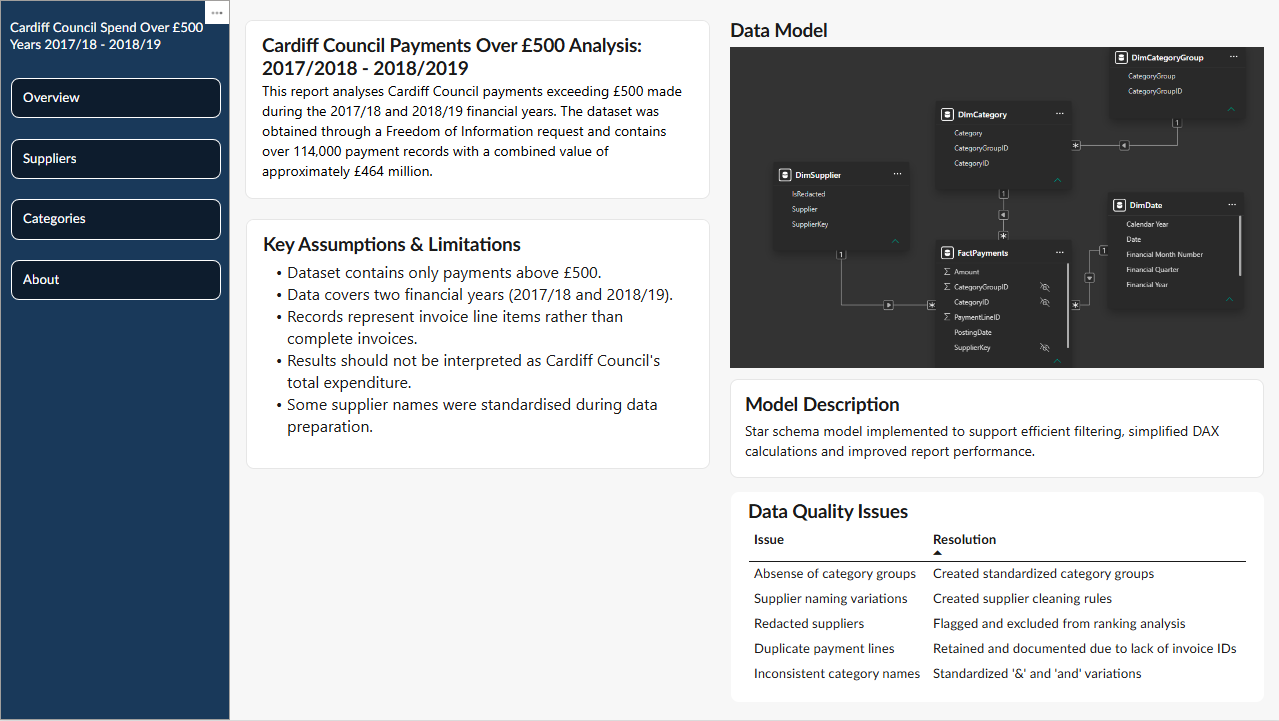

The page's visual inventory and layout, read from the dashboard file:
{"tool":"powerbi","page":{"name":"About the Dataset","canvas":[1280,720],"ordinal":3},"visuals":[{"type":"shape","title":"Shape_Menu background","box":[0,0,230,720],"z":0,"group":"g1"},{"type":"textbox","title":"Cardiff Council Payments Over £500 Analysis: 2017/2018 - 2018/2019","box":[245.5,20.2,464.6,178.8],"z":0},{"type":"image","title":"Data Model","box":[730.3,20.2,533.3,347.5],"z":1000},{"type":"actionButton","title":"Btn_Overview","box":[10.6,77.9,210,40.4],"z":1000,"group":"g1"},{"type":"actionButton","title":"Btn_Suppliers","box":[10.6,138.6,210,40.4],"z":2000,"group":"g1"},{"type":"textbox","title":"Model Description","box":[730.3,378.8,533.3,99],"z":2000},{"type":"actionButton","title":"Btn_Categories","box":[10.6,199.3,210,40.4],"z":3000,"group":"g1"},{"type":"tableEx","title":"Data Quality Issues","fields":{"Values":["DataQualityIssues.Issue","DataQualityIssues.Resolution"]},"box":[731.3,491.9,532.3,210.1],"z":3000},{"type":"textbox","title":"Key Assumptions & Limitations","box":[246.5,219.2,463.6,249.5],"z":4000},{"type":"actionButton","title":"Btn_About","box":[10.6,260,210,40.4],"z":4000,"group":"g1"},{"type":"group","id":"g1","title":"Navigation","box":[0,0,230,720],"z":5000},{"type":"textbox","title":"Report_Title","box":[10.1,20,210.1,40.4],"z":5000,"group":"g1"}]}

Visuals, with their boxes on the page's 1280x720 design canvas (x1, y1, x2, y2). These are canvas units, not pixel positions in the 1279x721 screenshot, which may show the page scaled, cropped or inside an application window:
"Shape_Menu background" shape: (0, 0, 230, 720)
"Cardiff Council Payments Over £500 Analysis: 2017/2018 - 2018/2019" textbox: (246, 20, 710, 199)
"Data Model" image: (730, 20, 1264, 368)
"Btn_Overview" actionButton: (11, 78, 221, 118)
"Btn_Suppliers" actionButton: (11, 139, 221, 179)
"Model Description" textbox: (730, 379, 1264, 478)
"Btn_Categories" actionButton: (11, 199, 221, 240)
"Data Quality Issues" tableEx: (731, 492, 1264, 702)
"Key Assumptions & Limitations" textbox: (246, 219, 710, 469)
"Btn_About" actionButton: (11, 260, 221, 300)
"Navigation" group: (0, 0, 230, 720)
"Report_Title" textbox: (10, 20, 220, 60)
